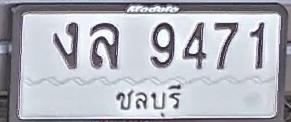1: (250, 22, 264, 69)
4: (182, 22, 206, 70)
7: (214, 22, 238, 70)
9: (151, 22, 174, 68)
A07: (53, 21, 78, 69)
A36: (90, 22, 119, 68)
CBI: (114, 81, 185, 119)
